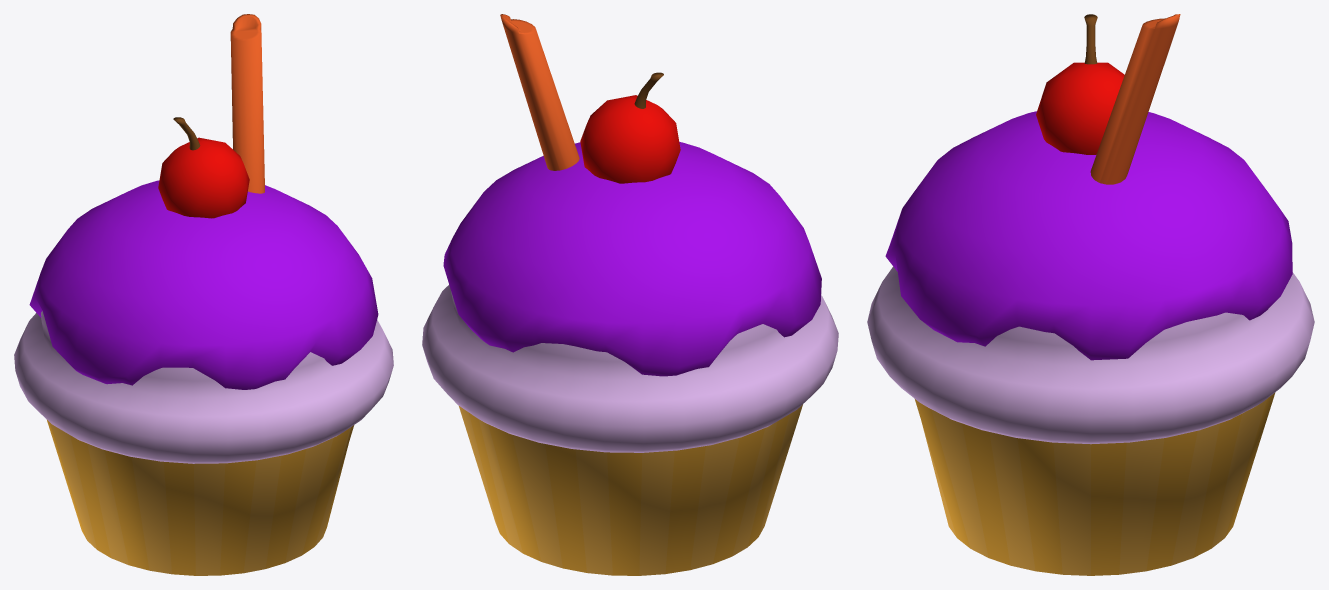
The model's file is cupcake.fbx.
The picture shows the model from 3 angles, left to right: view 1: azimuth 30°, elevation 25°; view 2: azimuth 150°, elevation 25°; view 3: azimuth 270°, elevation 25°; orthographic projection. The views are drawn at different scales.
Parts seen in each view (by area): view 1: Cupcake Dessert Topping, Cupcake; view 2: Cupcake Dessert Topping, Cupcake; view 3: Cupcake Dessert Topping, Cupcake.
Boxes of the visible parts, x1=… form: Cupcake Dessert Topping: x1=29, y1=14, x2=378, y2=389; Cupcake: x1=14, y1=311, x2=393, y2=575; Cupcake Dessert Topping: x1=443, y1=14, x2=821, y2=376; Cupcake: x1=422, y1=285, x2=838, y2=575; Cupcake Dessert Topping: x1=885, y1=14, x2=1292, y2=360; Cupcake: x1=867, y1=266, x2=1314, y2=575.
Bounding box in the file's own units: 13.04 × 13.04 × 17.53.
